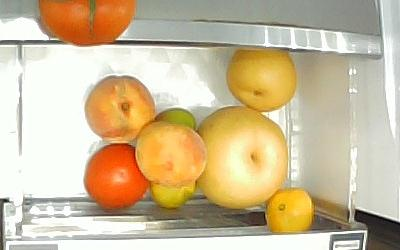peach: (83, 73, 156, 141), (133, 120, 208, 185)
pear: (194, 104, 289, 208), (225, 46, 297, 112)
tangerine: (265, 186, 313, 233), (148, 179, 197, 209), (152, 106, 196, 132)
tomato: (82, 141, 150, 210)
